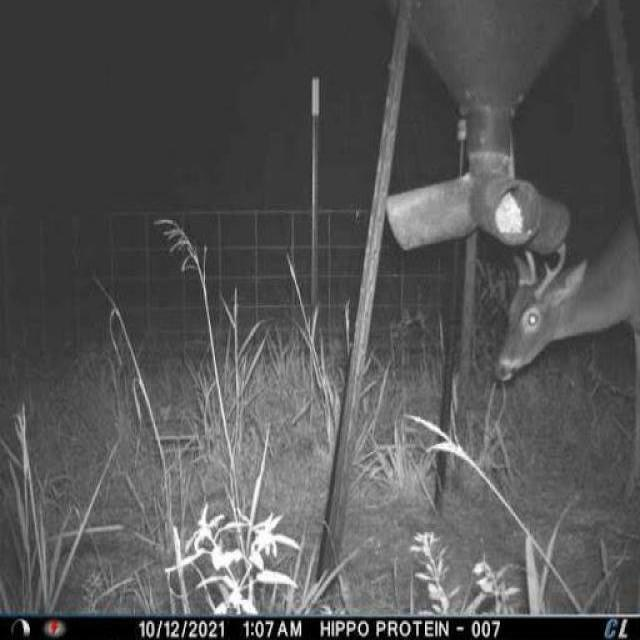deer: (490, 180, 640, 507)
